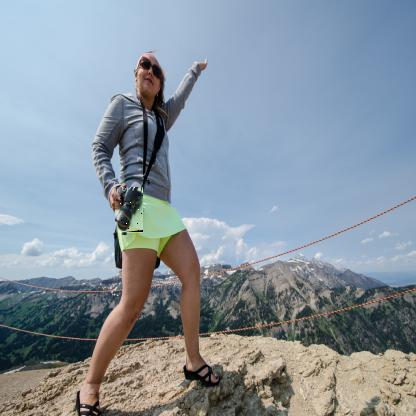Camera: (116, 189, 145, 237)
